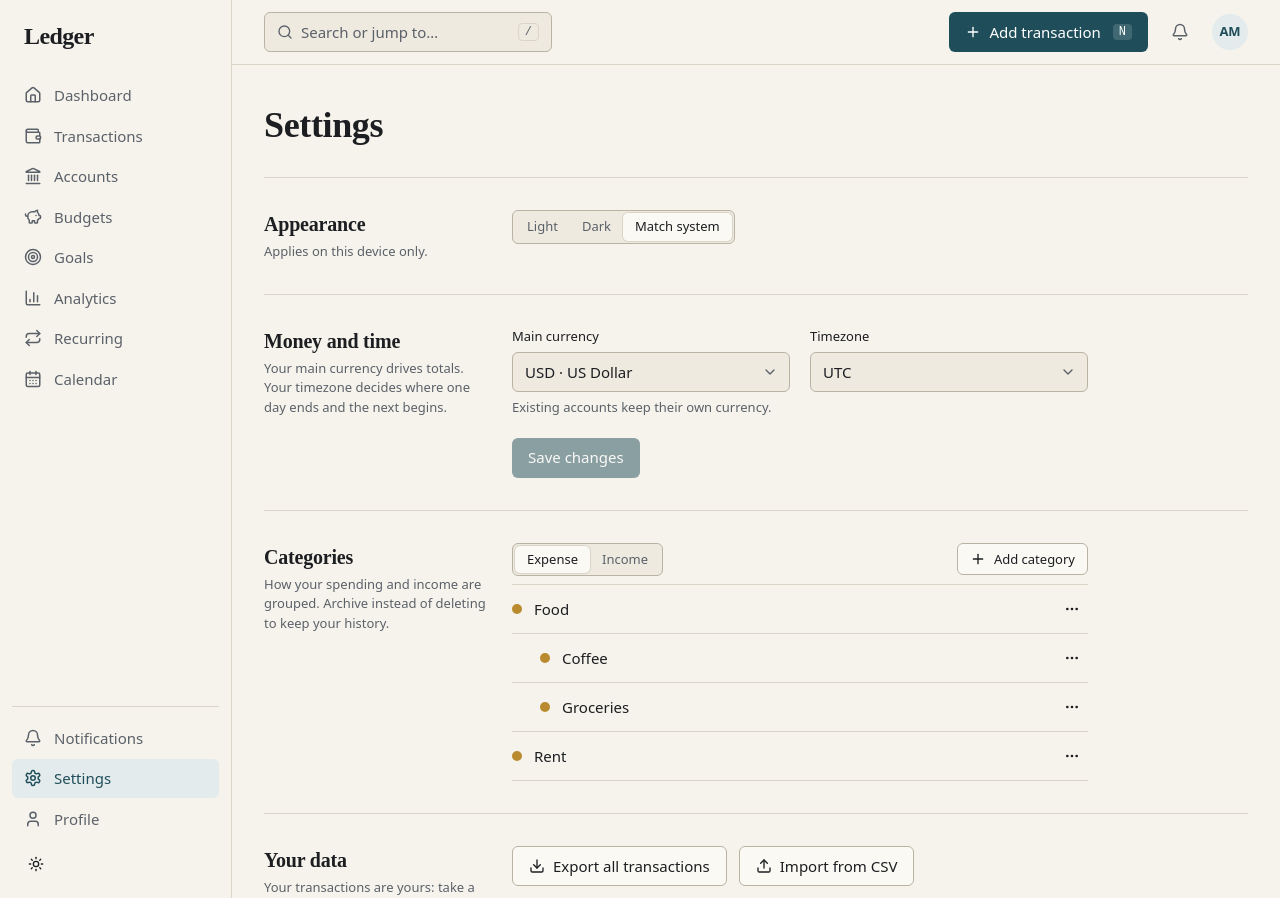
Test: category manager (Settings) › shows a duplicate-name error from the server inside the dialog
Click the button "Add category": click(1022, 559) [957,543,1088,575]
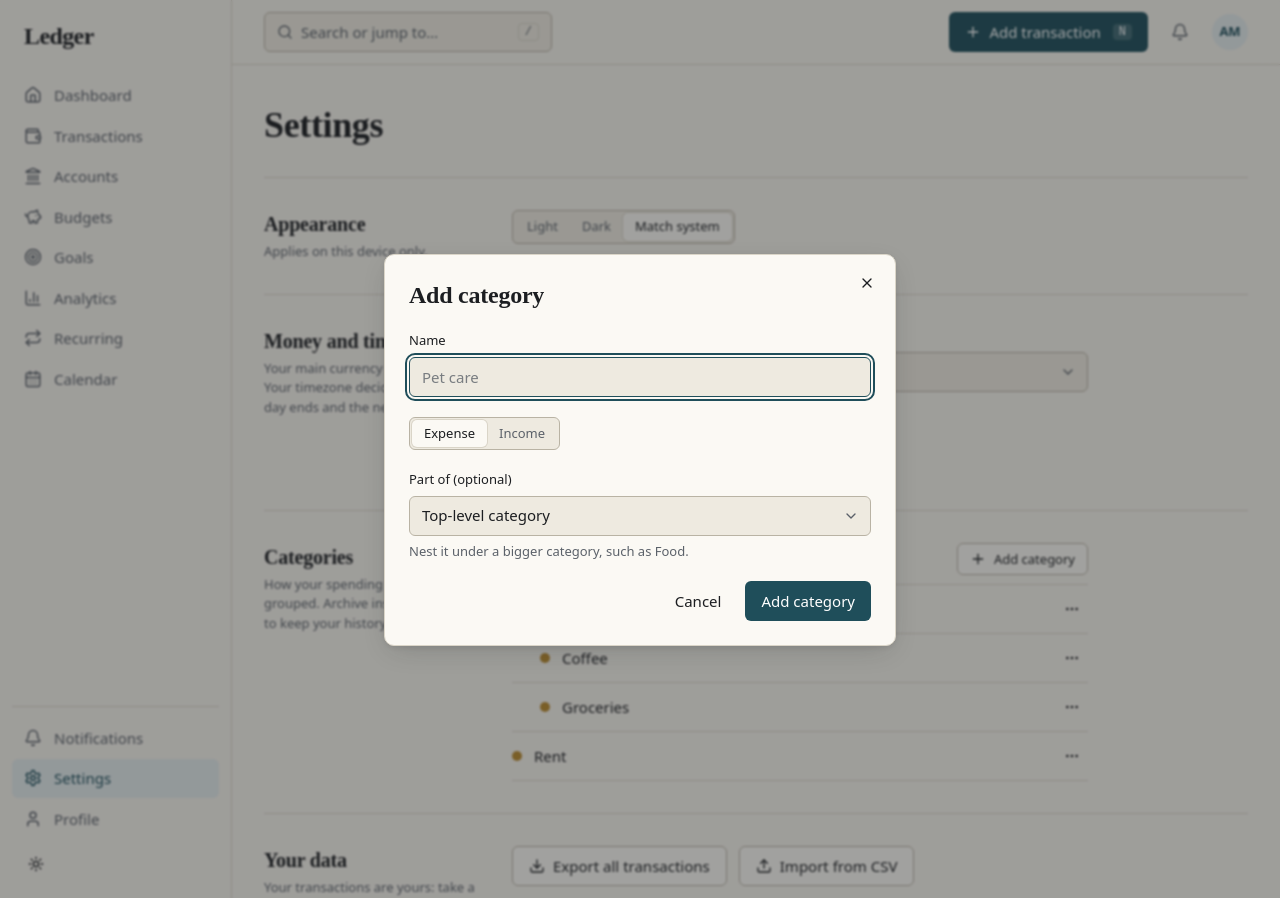
In the field labelled "Name": (640, 376) [409,356,871,396], type "Coffee"
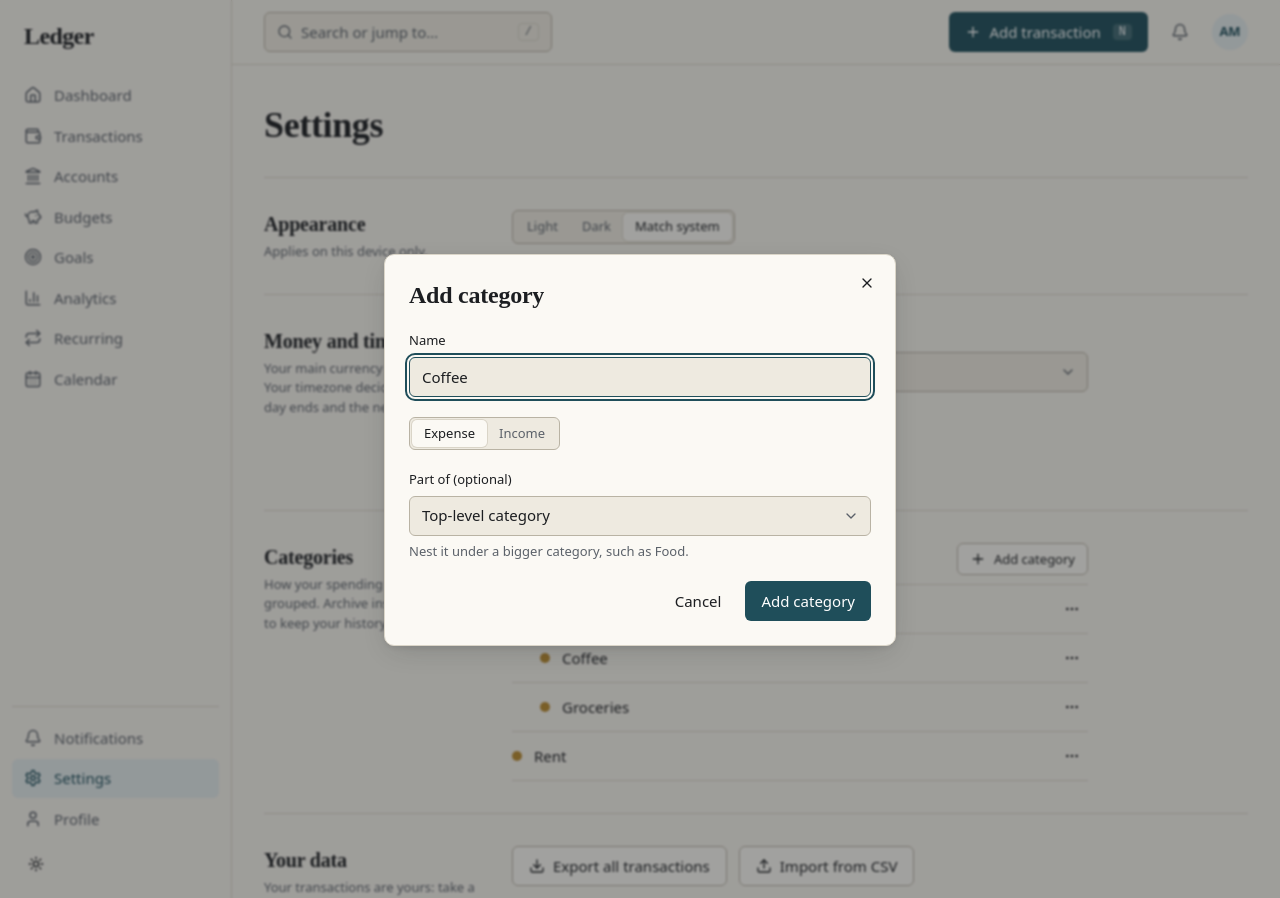
Click the button "Add category": click(808, 601) [745,581,871,621]
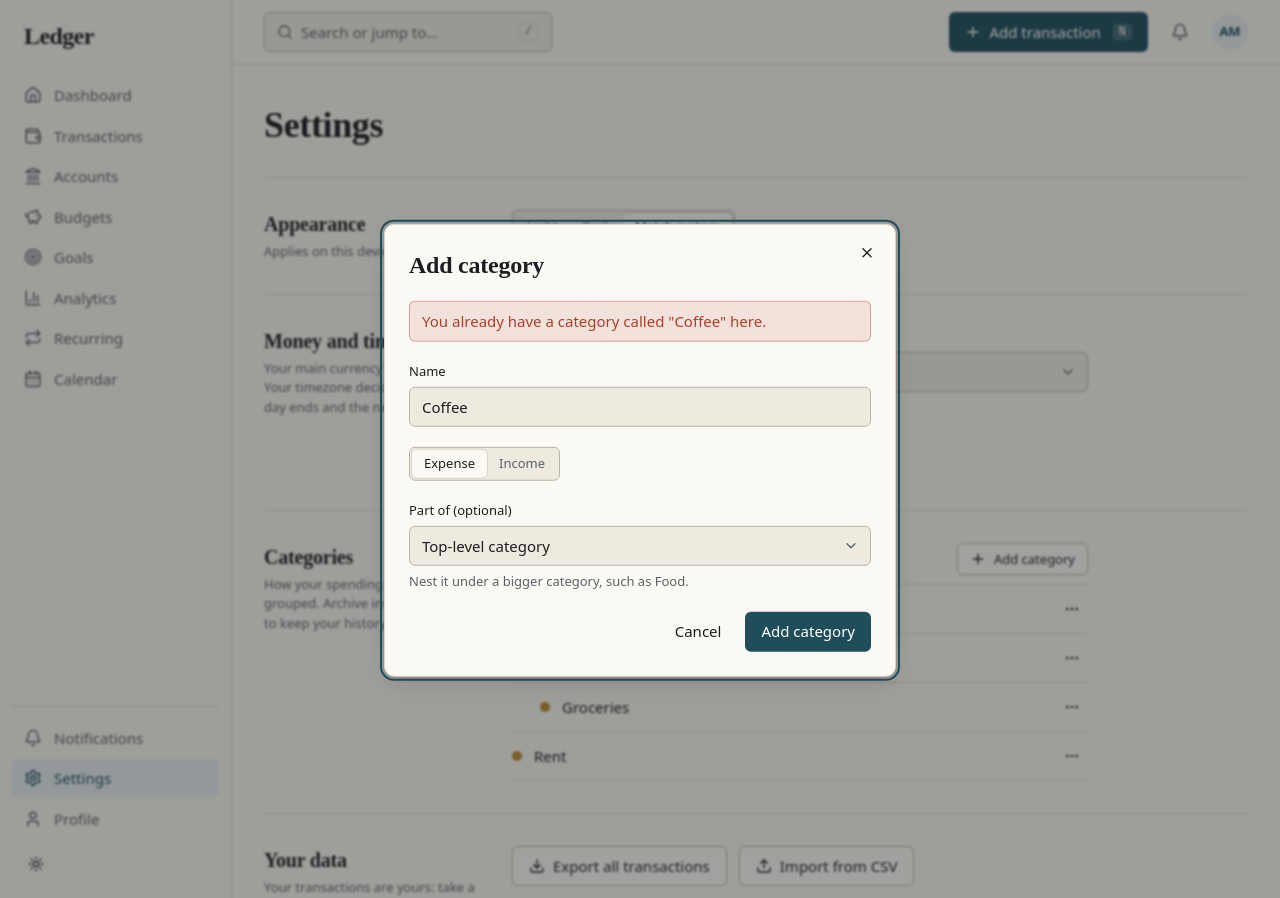
Now the message shows "already have a category called", box [422,311,766,331]
